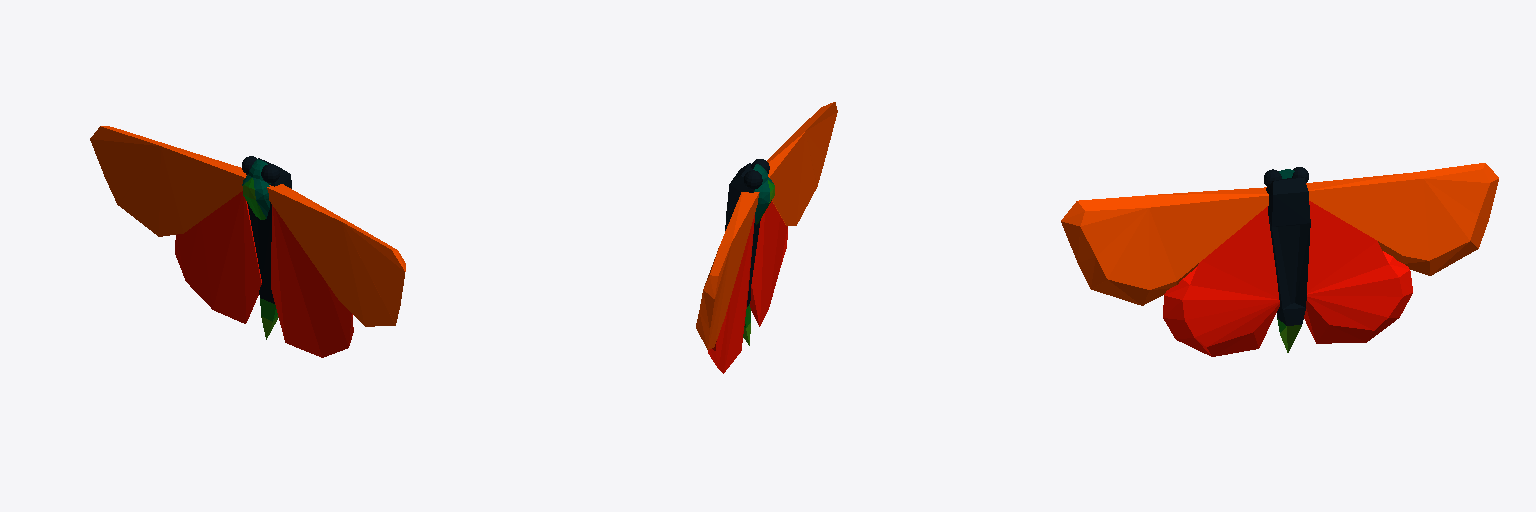
3 renders of one model, left to right at view 1: azimuth 30°, elevation 25°; view 2: azimuth 150°, elevation 25°; view 3: azimuth 270°, elevation 25°, orthographic.
Visible parts, largest first — view 1: group[number redacted]; view 2: group[number redacted]; view 3: group[number redacted].
Part boxes in pixels (x1,y1,x2,y2): group[number redacted]: (90, 126, 405, 357); group[number redacted]: (696, 102, 837, 373); group[number redacted]: (1061, 163, 1498, 356).
Size of the model in its own units: 1.81 by 2.79 by 6.08.